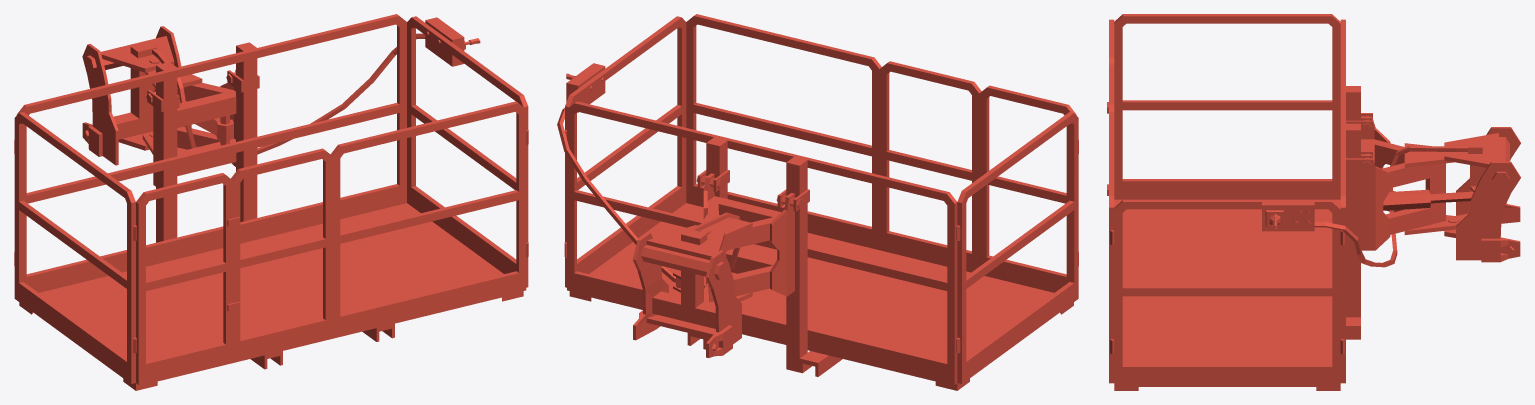
Rendered from SM_Telehandler_Cage.fbx.
3 views of the same model, side by side, from view 1: azimuth 30°, elevation 25°; view 2: azimuth 150°, elevation 25°; view 3: azimuth 270°, elevation 25° (orthographic). The views are drawn at different scales.
Visible parts, largest first — view 1: SM_Telehandler_Cage; view 2: SM_Telehandler_Cage; view 3: SM_Telehandler_Cage.
Boxes of the visible parts, x1,y1,x2,y2 form: SM_Telehandler_Cage: [14, 14, 528, 390]; SM_Telehandler_Cage: [557, 14, 1078, 390]; SM_Telehandler_Cage: [1107, 14, 1520, 390].
Bounding box in the file's own units: 185 × 216 × 100.
